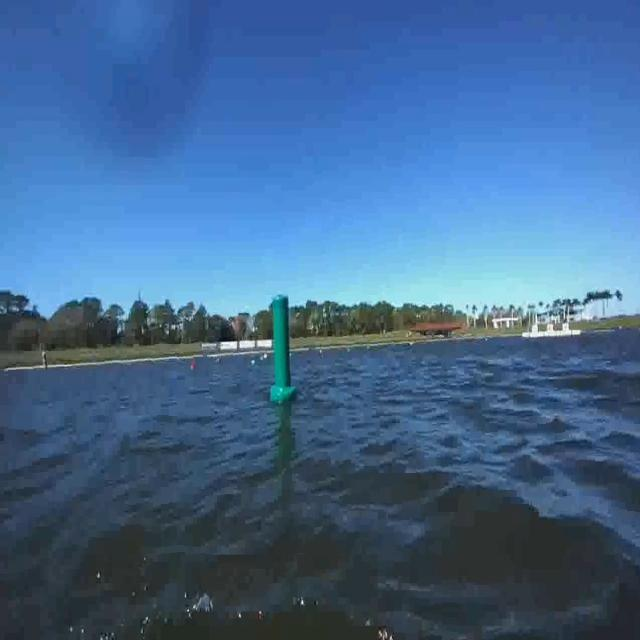green-column-buoy: (270, 291, 298, 402)
